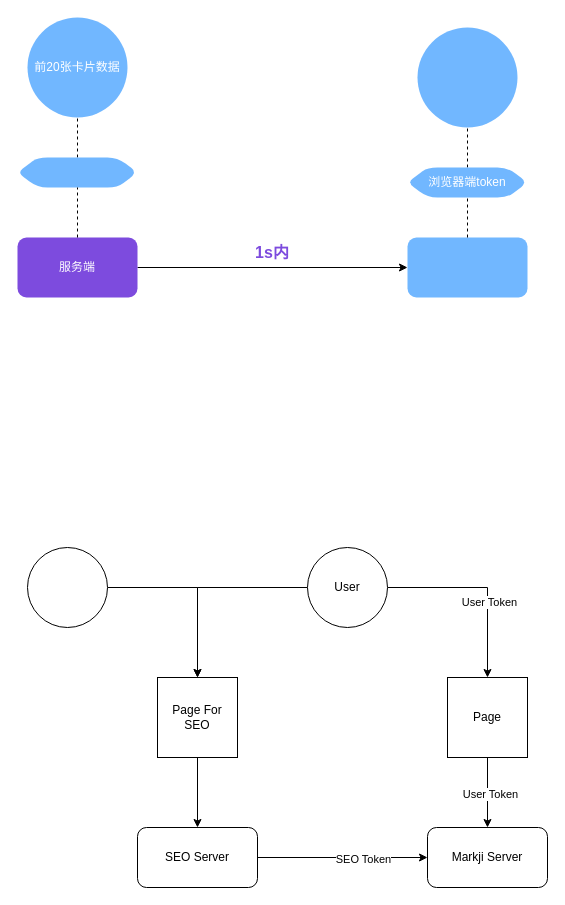
The diagram is 565 pixels wide and 905 high, and some of its shapes have lost their labels. Here are the shapes that lost their labels. From the top down, the box of each, then its label:
(417, 27, 517, 127): 剩余卡片数据
(17, 157, 137, 187): 服务端token
(407, 237, 527, 297): 浏览器
(26, 546, 108, 628): Spider
